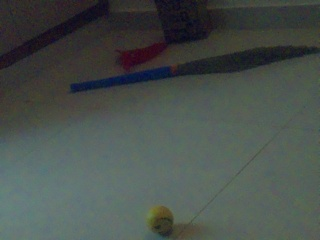ball: (147, 205, 173, 234)
